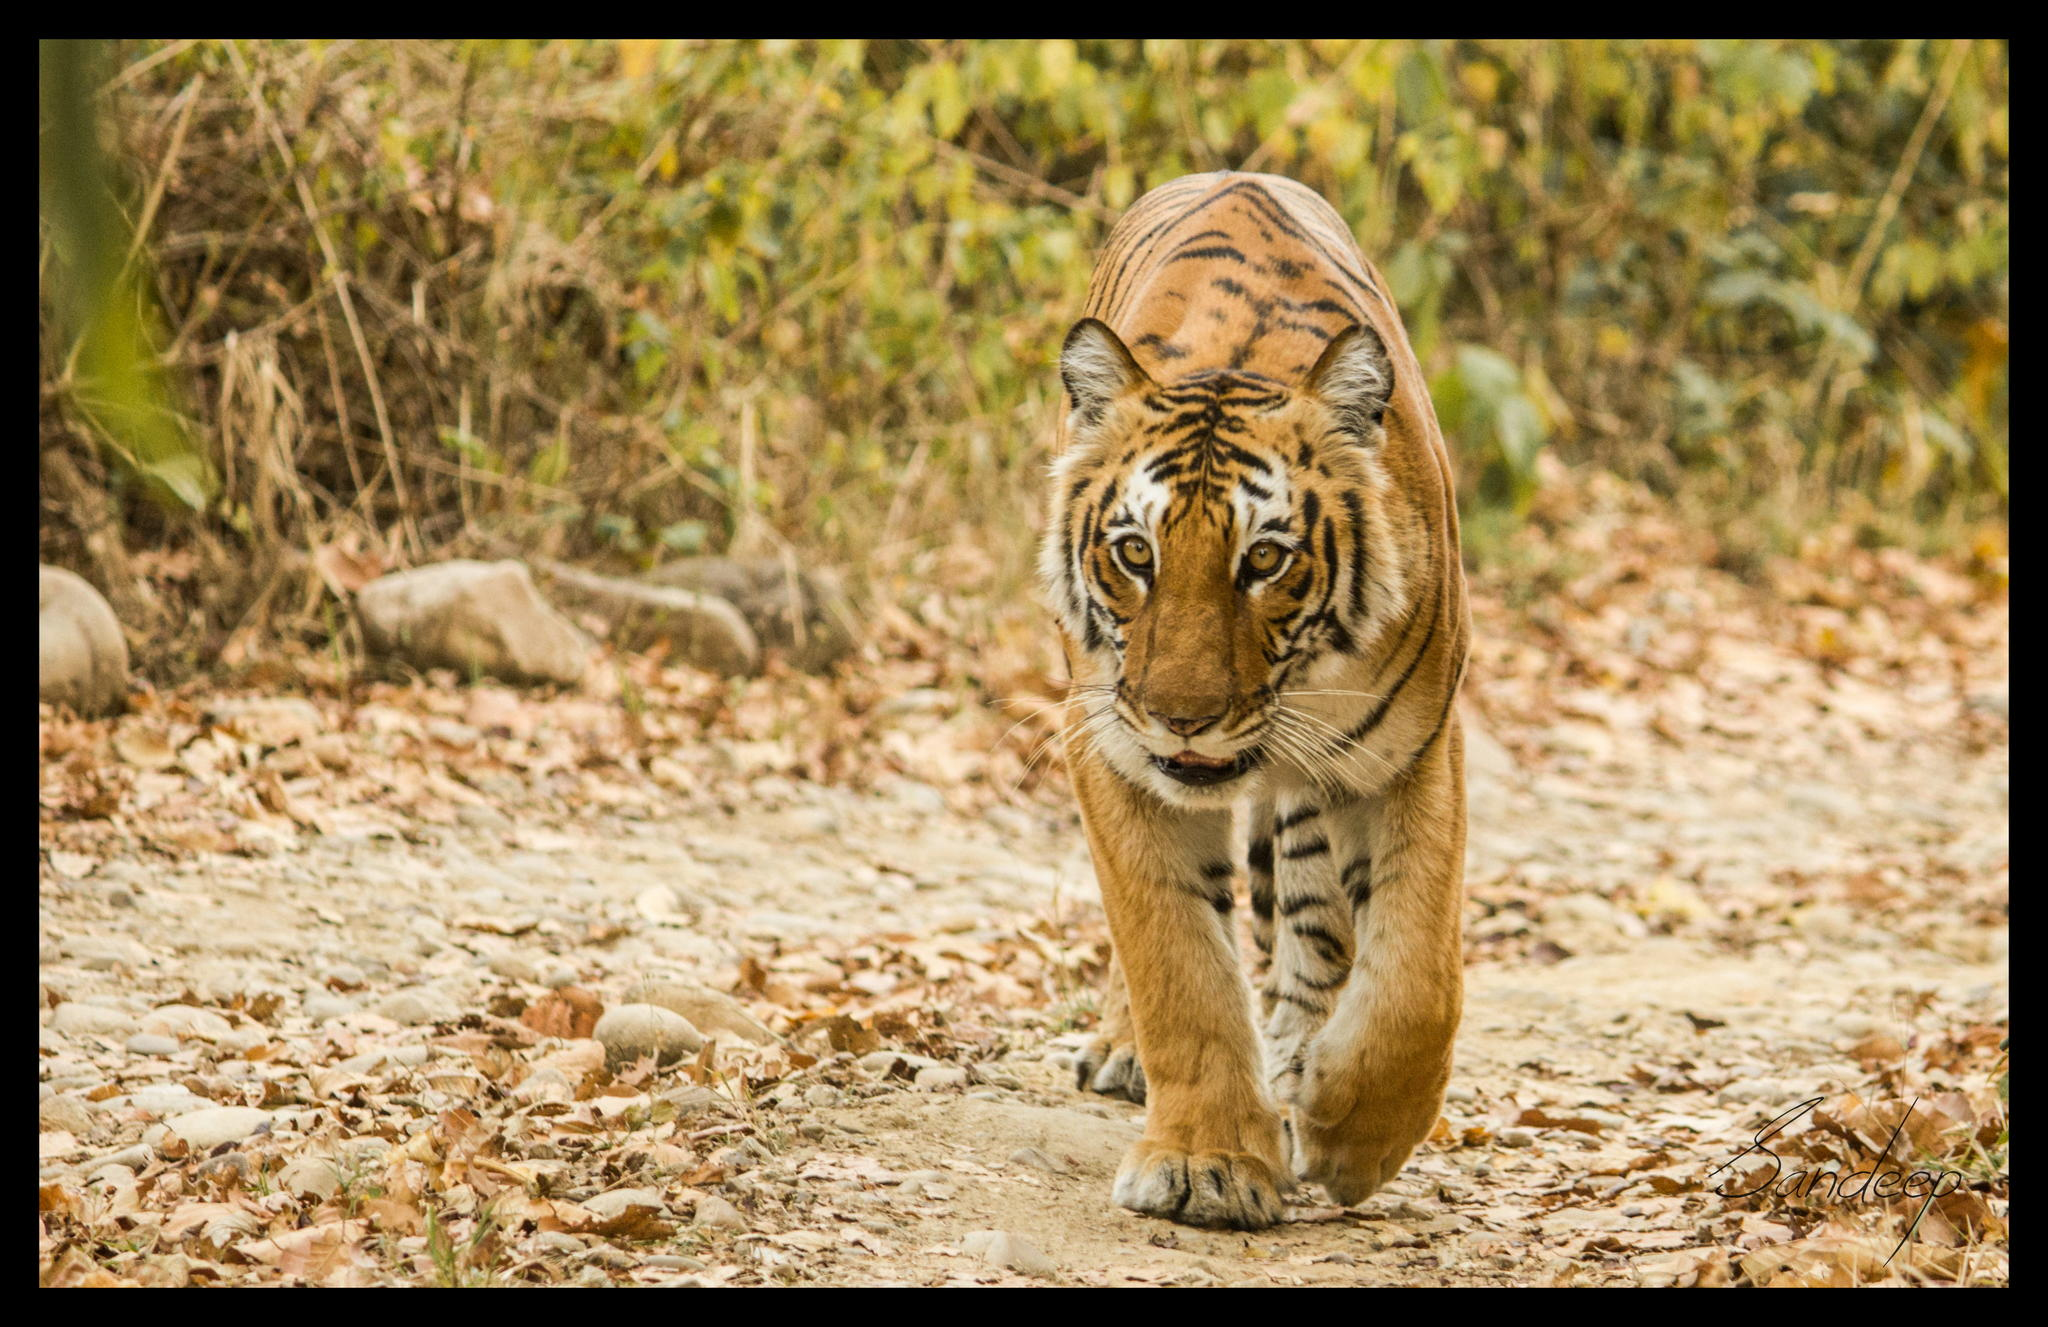tiger: (940, 146, 1566, 1246)
